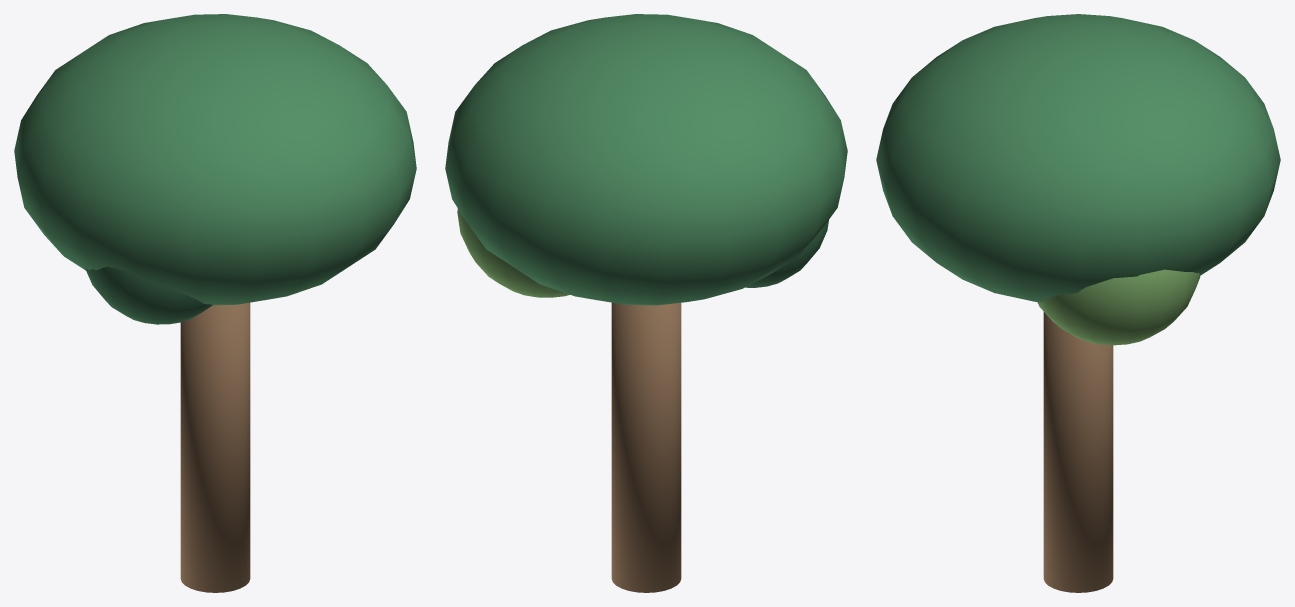
The model's file is tree.broad-old.glb.
The picture shows the model from 3 angles, left to right: view 1: azimuth 30°, elevation 25°; view 2: azimuth 150°, elevation 25°; view 3: azimuth 270°, elevation 25°; orthographic projection.
Visible parts, largest first — view 1: trunk; view 2: trunk; view 3: trunk.
Part boxes in pixels (box(x1,y1,x2,y2)): trunk: box(14, 14, 416, 592); trunk: box(445, 14, 847, 592); trunk: box(876, 14, 1280, 592).
Bounding box in the file's own units: 1.62 × 2.37 × 1.62.
